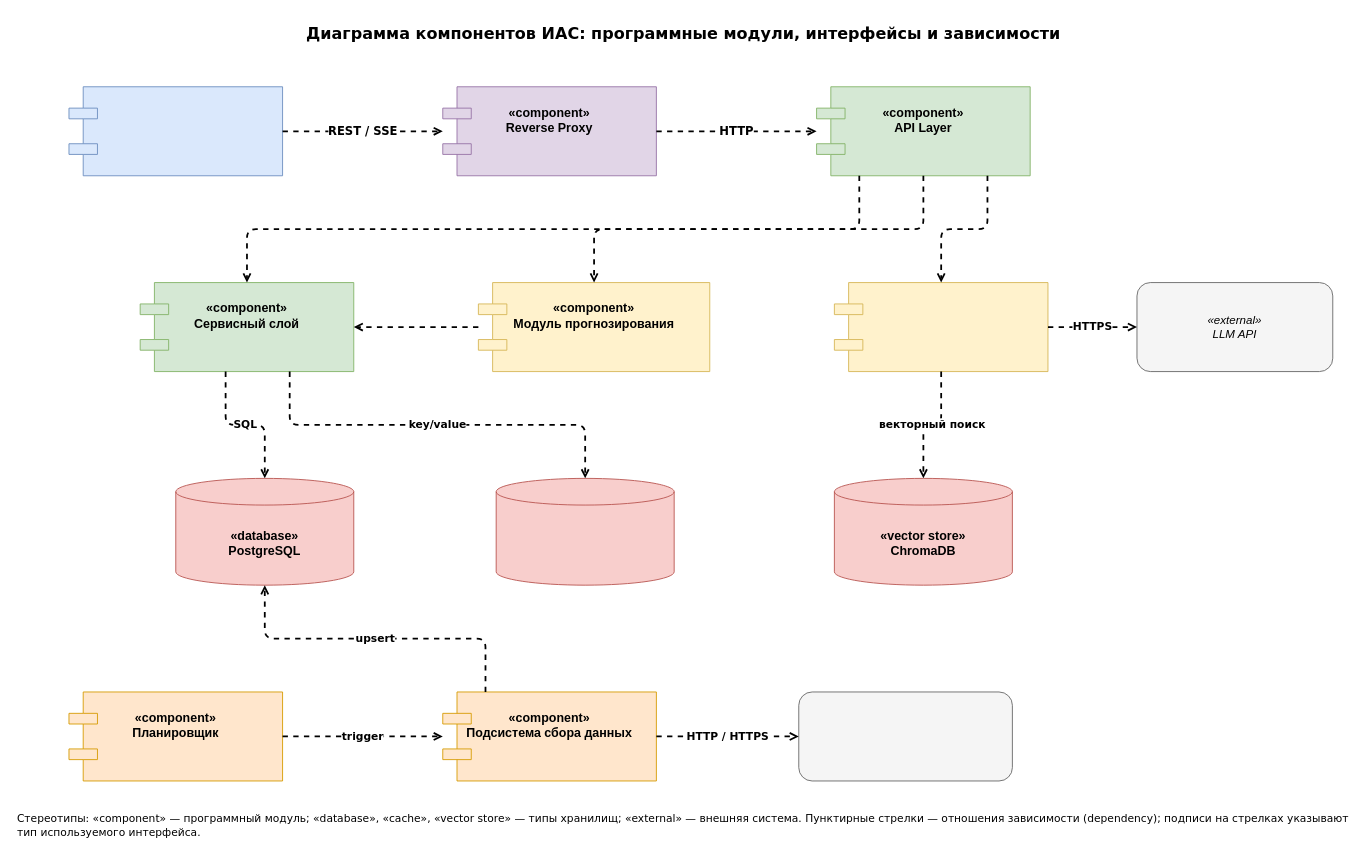
This 1365x867 diagram has some shape labels left out. Here are the shapes that lost their labels. From the top down, the centre of each, then its label:
At point 175,131: "«component» Frontend SPA".
At point 940,327: "«component» Интеллектуальный агент".
At point 584,531: "«cache» Redis".
At point 905,736: "«external» Источники туристических данных".
